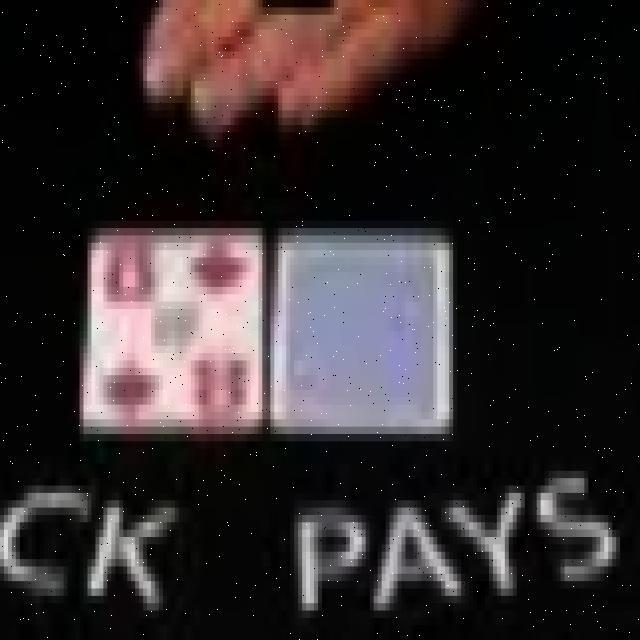Card-8: (85, 226, 262, 439)
